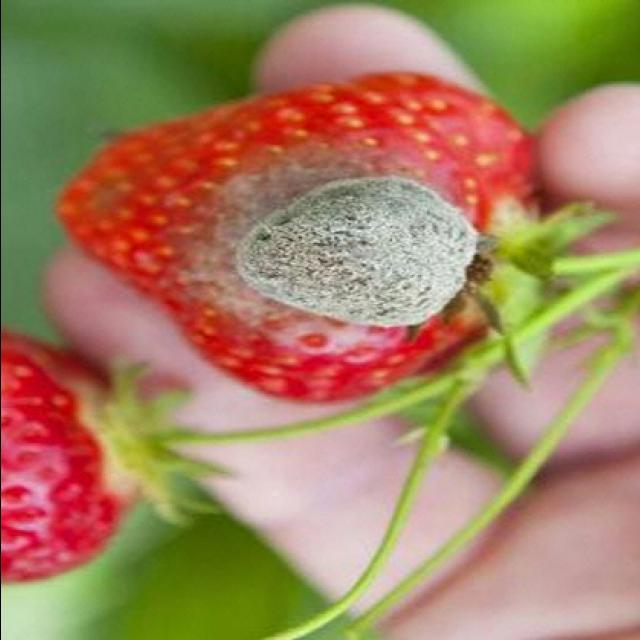Gray Mold: (173, 134, 499, 359)
